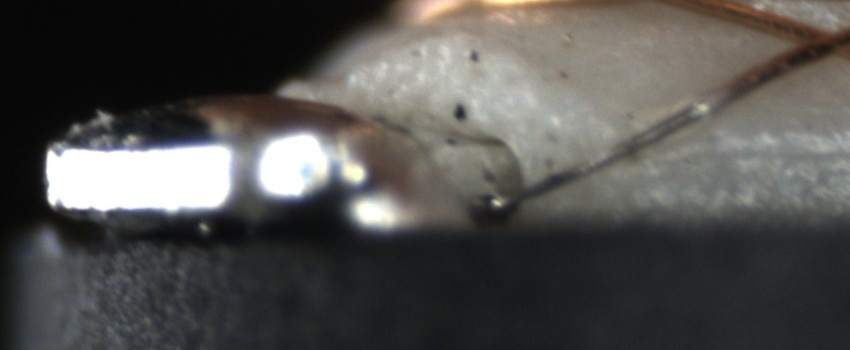CL: (776, 15, 847, 69)
DL: (678, 120, 849, 184)
TS: (489, 92, 732, 210)
TTCW: (486, 55, 789, 211)
